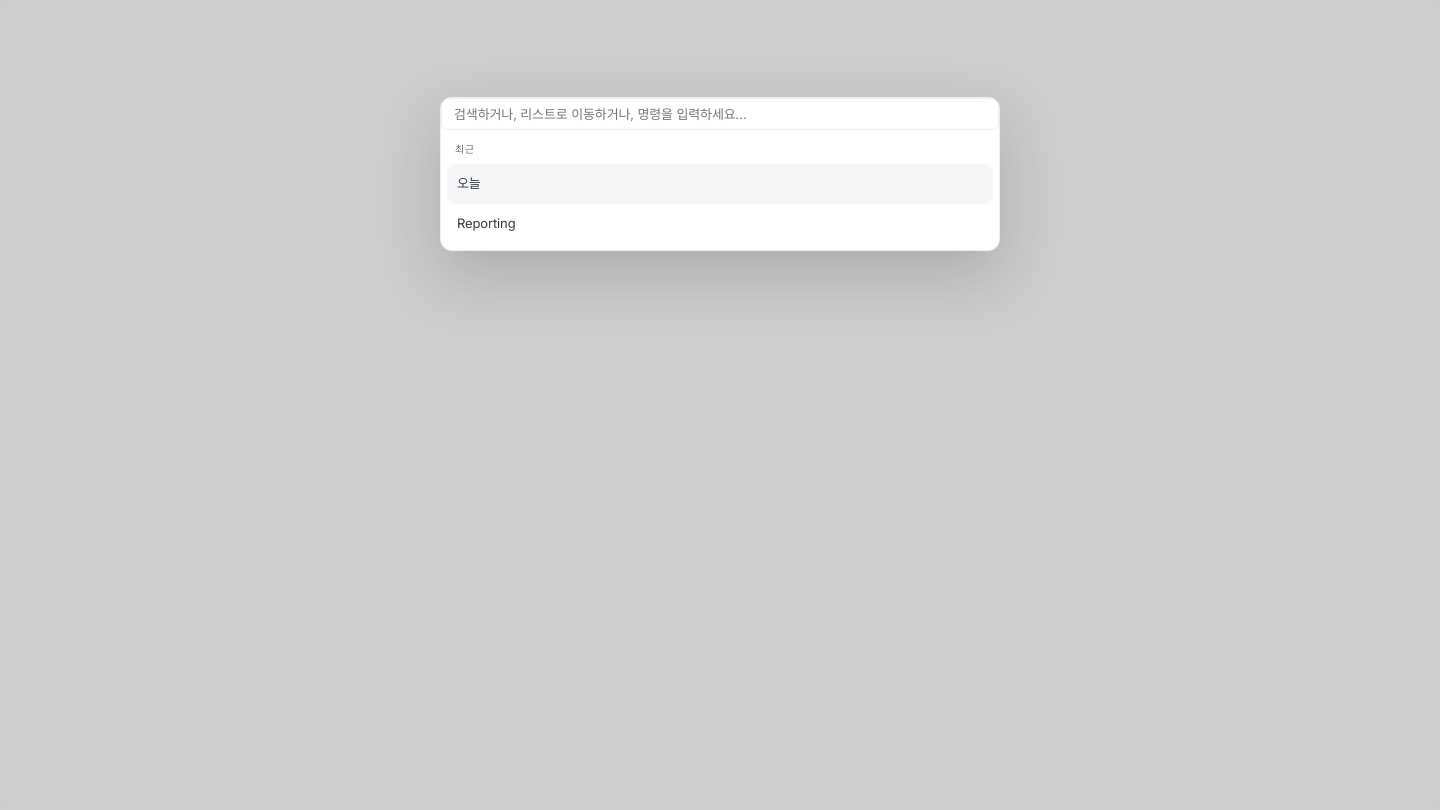
Test: the menu goes to places and runs commands › offers tasks and containers together, each in its own group
Type "report" into the dropdown at (720,114), box x1=441 y1=98 x2=999 y2=130
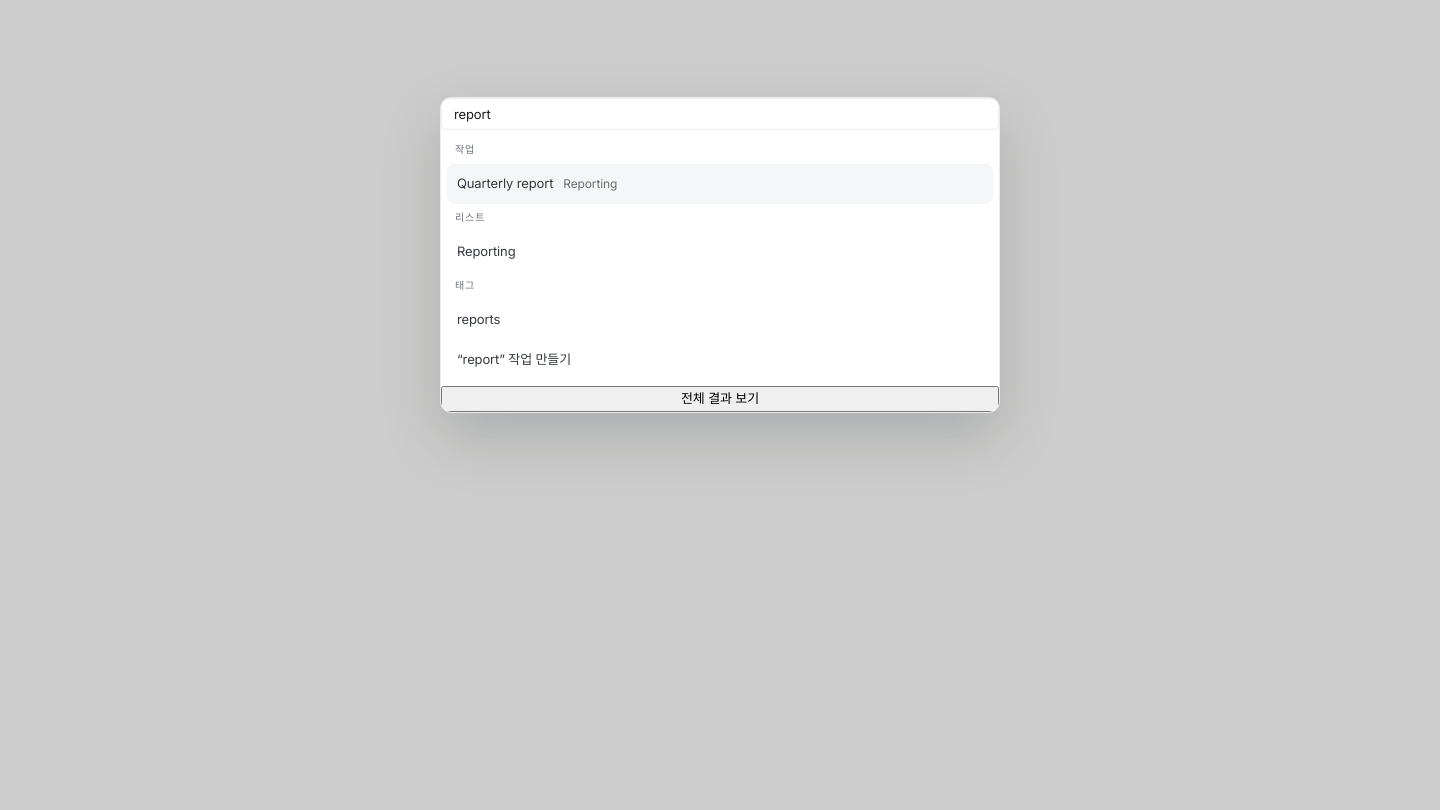
Expected: the option "Reporting" is shown, x1=447 y1=232 x2=993 y2=272
Expected: the option "Quarterly report Reporting" is shown, x1=447 y1=164 x2=993 y2=204
Expected: the option "reports" is shown, x1=447 y1=300 x2=993 y2=340
